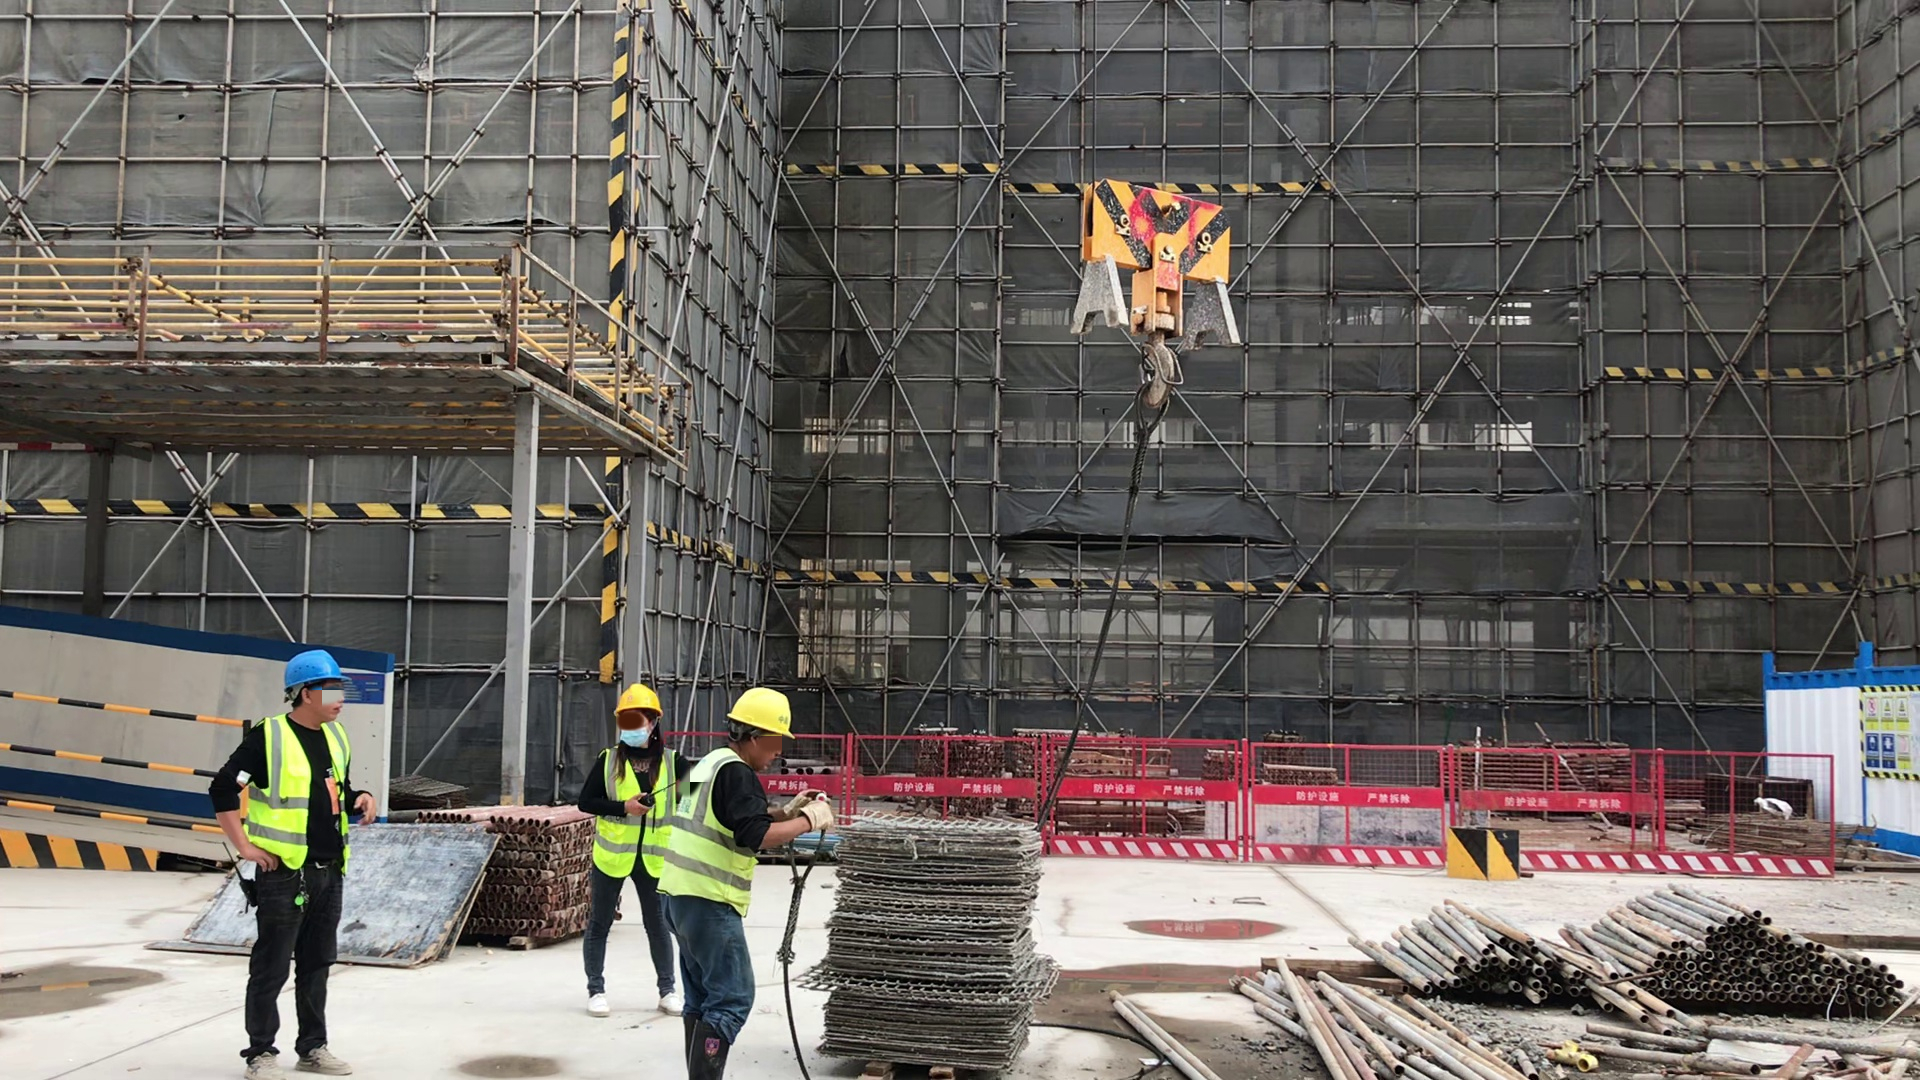fence: (1087, 728, 1441, 871), (1528, 742, 1839, 886), (2, 680, 213, 848), (814, 726, 1037, 801)
helmet: (724, 689, 795, 742), (278, 655, 355, 702), (613, 685, 666, 725)
hook: (1065, 168, 1251, 406)
person: (208, 652, 382, 1080), (656, 685, 832, 1080), (573, 680, 681, 1016)
scaffold: (1589, 878, 1914, 1030), (1347, 889, 1593, 1020), (489, 806, 588, 960)
slogan: (1863, 685, 1920, 782)
vest: (245, 713, 357, 880), (666, 750, 762, 923), (595, 746, 678, 880)
